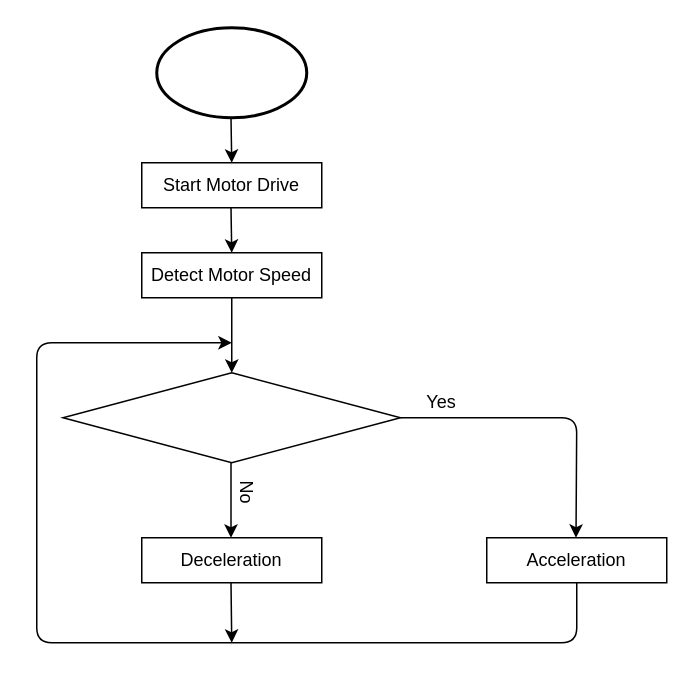
This 693x681 diagram has some shape labels left out. Here are the shapes that lost their labels. From the top down, the centre of each, then its label:
At [231,72]: "Start".
At [231,417]: "actual_speed < calculated_speed?".
